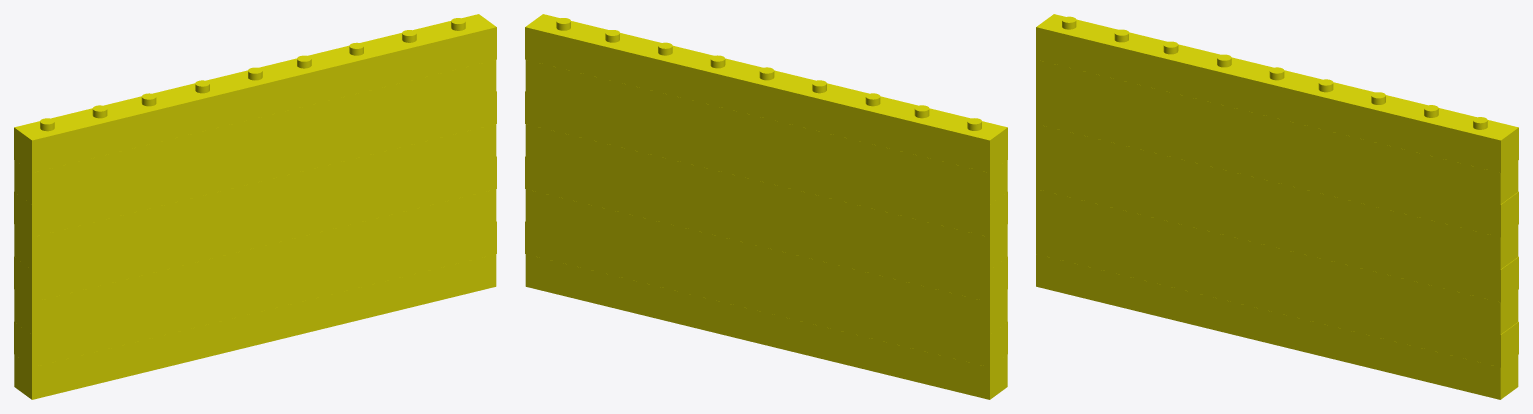
Rendered from Lego Wall v2.fbx.
3 renders of one model, left to right at view 1: azimuth 30°, elevation 25°; view 2: azimuth 150°, elevation 25°; view 3: azimuth 330°, elevation 25°, orthographic.
Visible parts, largest first — view 1: Lego_block_wall; view 2: Lego_block_wall; view 3: Lego_block_wall.
Part boxes in pixels (x1=…): Lego_block_wall: x1=14, y1=14, x2=496, y2=399; Lego_block_wall: x1=525, y1=14, x2=1007, y2=399; Lego_block_wall: x1=1036, y1=14, x2=1518, y2=399.
Size of the model in its own units: 14.95 by 8.18 by 1.
